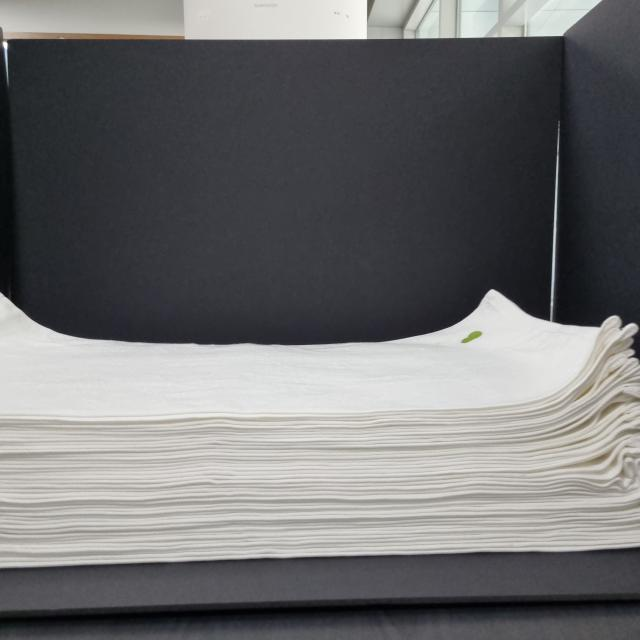not_50count_towel: (0, 264, 640, 592)
